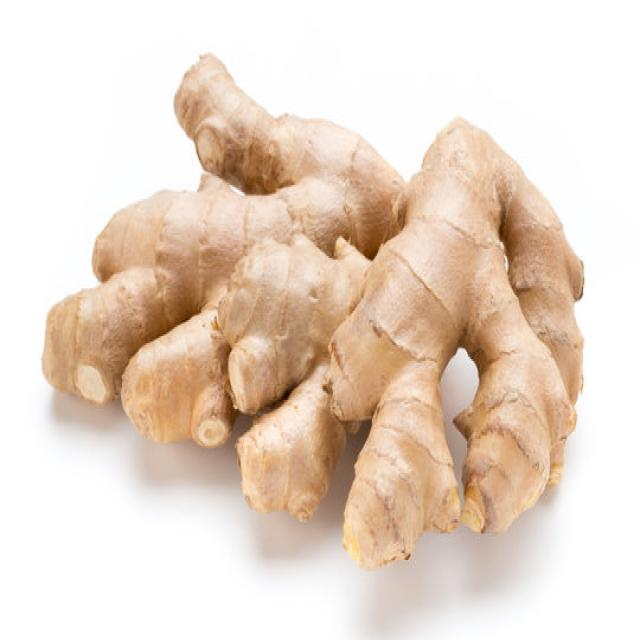Ginger: (41, 49, 586, 570)
